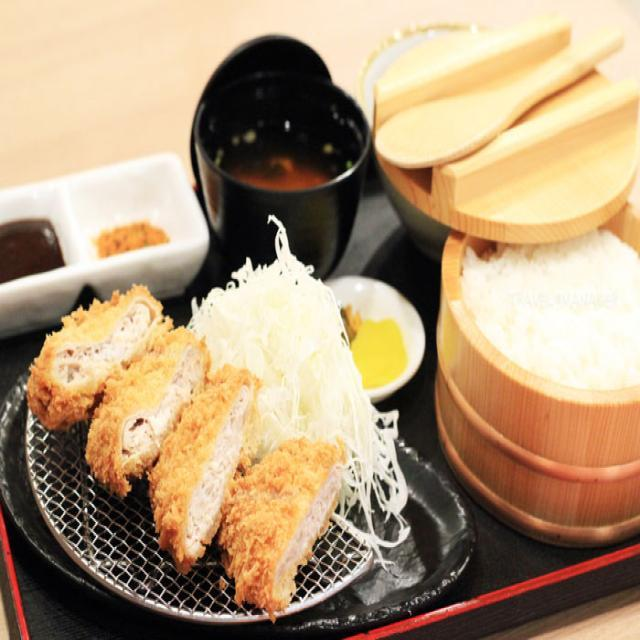cac loai rau cu: (199, 231, 410, 501)
com: (463, 229, 640, 399)
thit heo: (32, 289, 345, 617)
thit heo chien xu tonkatsu: (3, 24, 640, 640)
